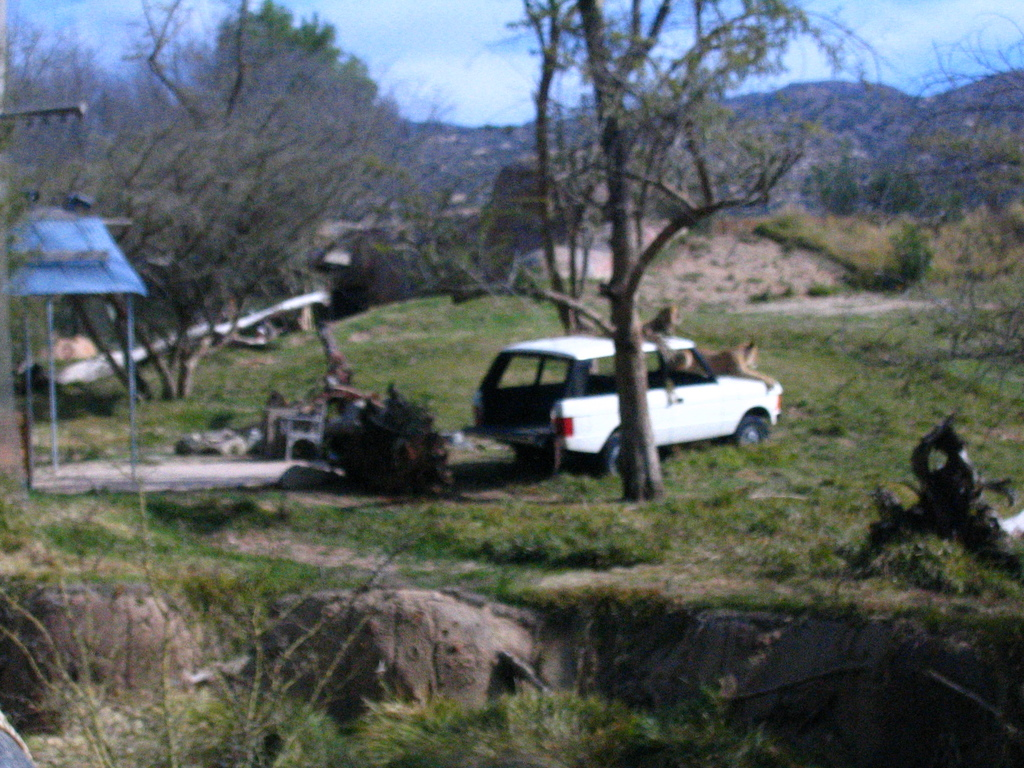Car: (474, 312, 772, 494)
